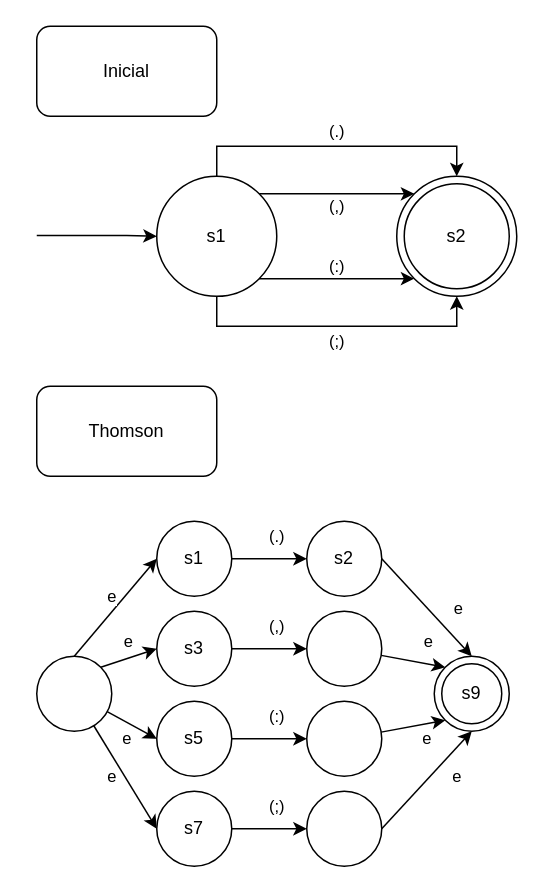
Image size: 543x893. Some labels were removed from this diagram. Here are the shapes that lost their labels. From the top down, the centre of each, then its label:
At point (343, 648): "s4".
At point (73, 693): "s0".
At point (343, 738): "s6".
At point (343, 828): "s8".
